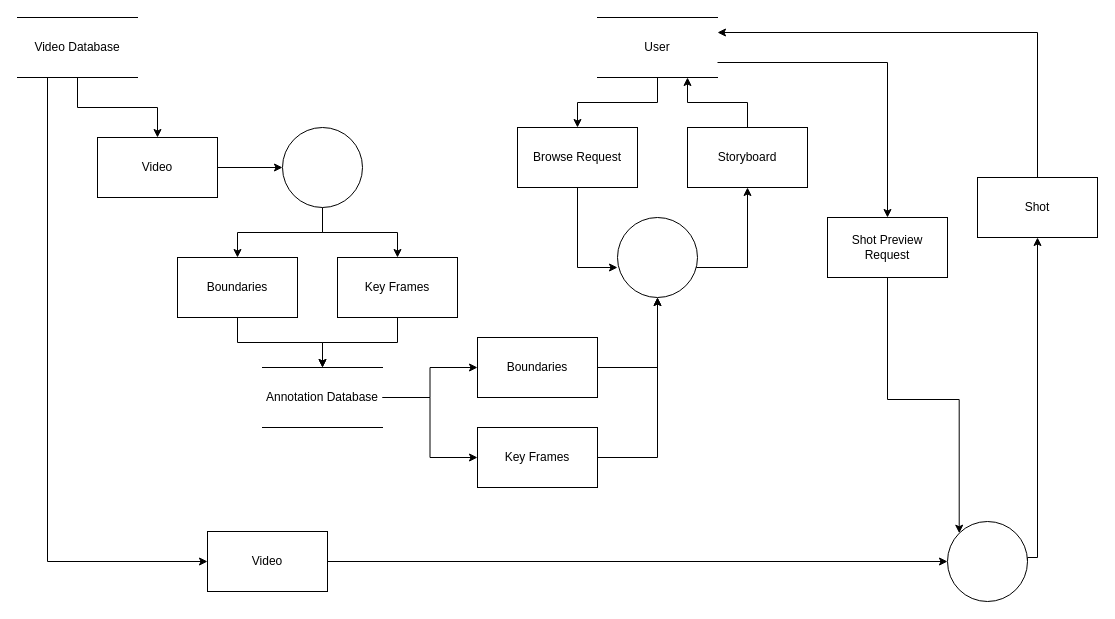
The diagram is 1115 pixels wide and 619 high, and some of its shapes have lost their labels. Each missing label, with the centre of its shape:
"Short Boundary Detection" belongs at point (322, 167).
"Shot Preview" belongs at point (987, 561).
"Storyboard Preview" belongs at point (657, 257).
